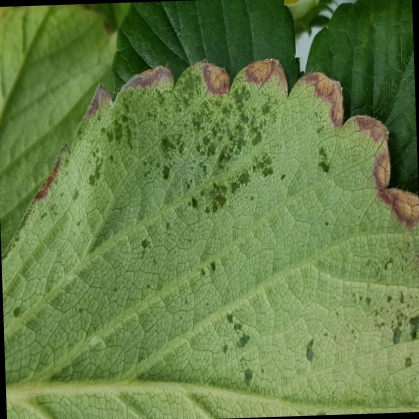Angular_LS: (0, 59, 418, 418)
